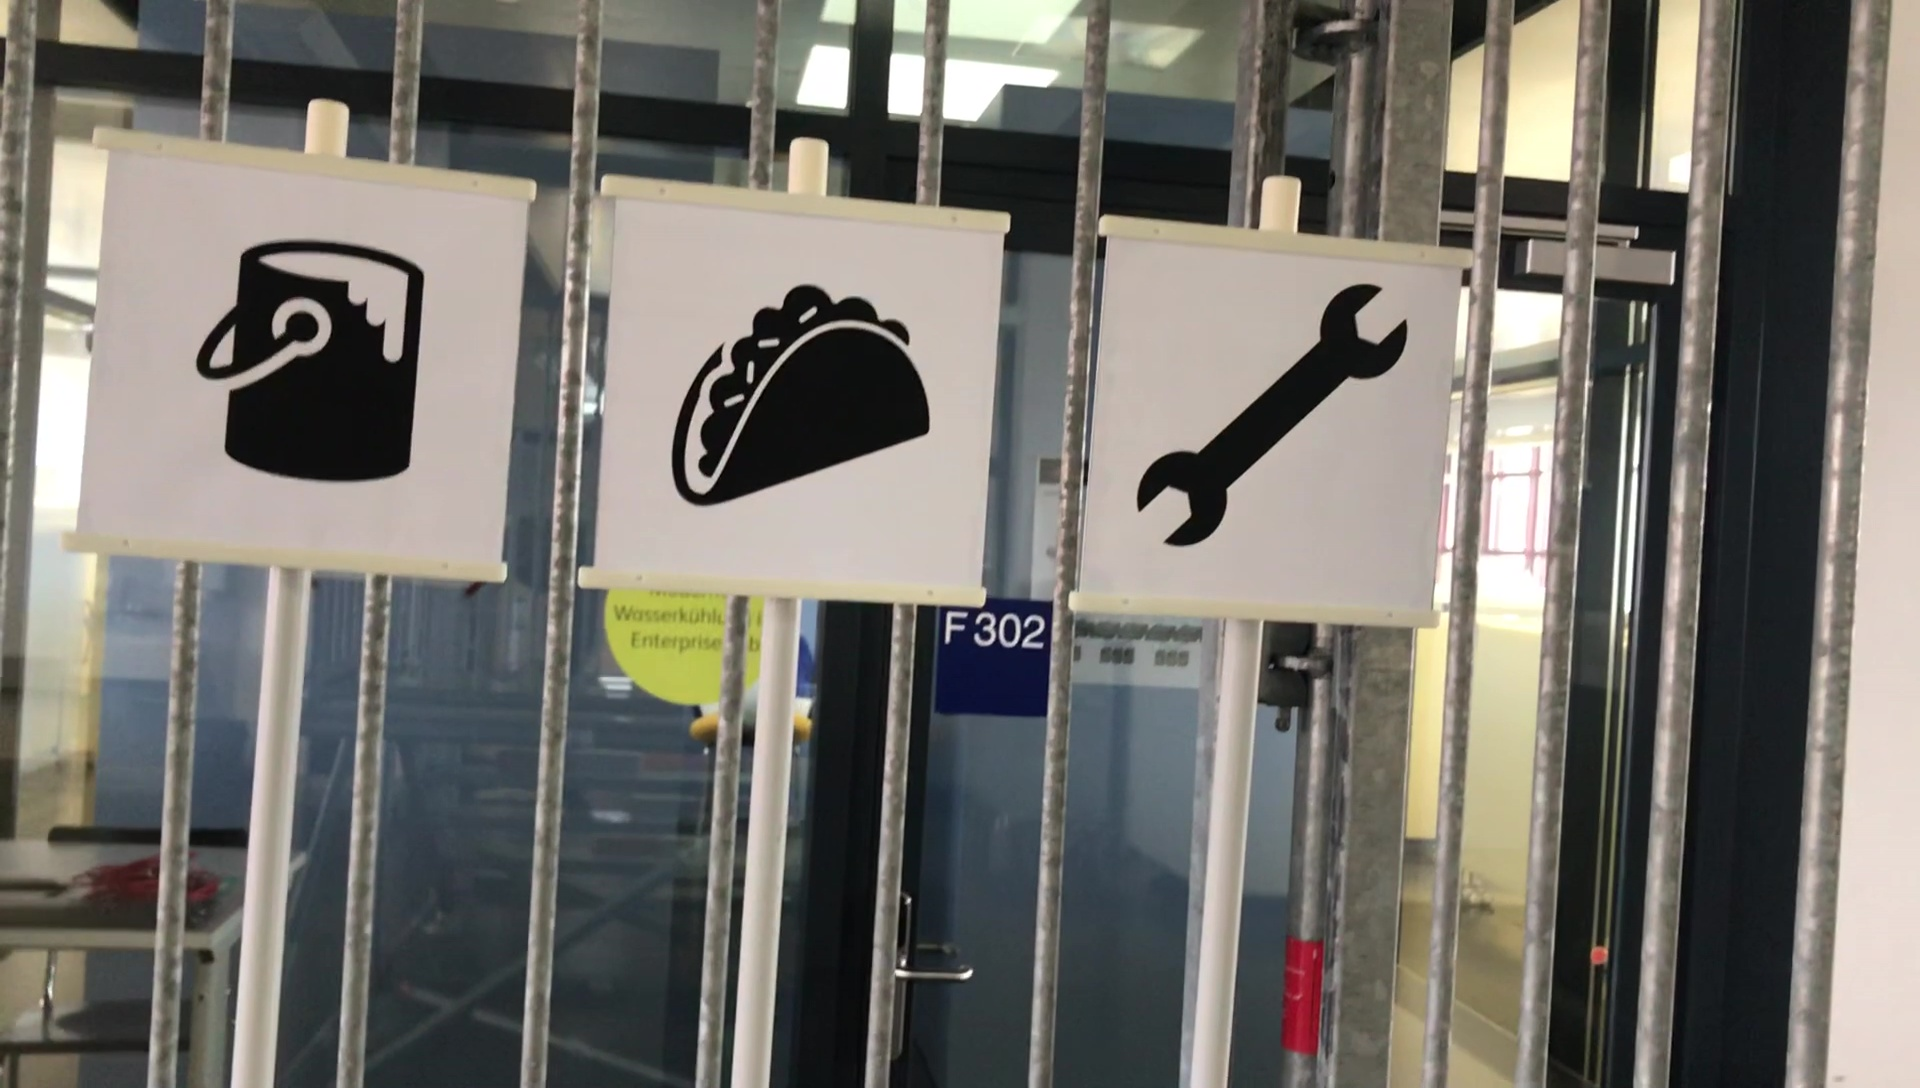bucket: (193, 239, 434, 495)
taco: (657, 269, 949, 521)
wrench: (1127, 272, 1424, 557)
